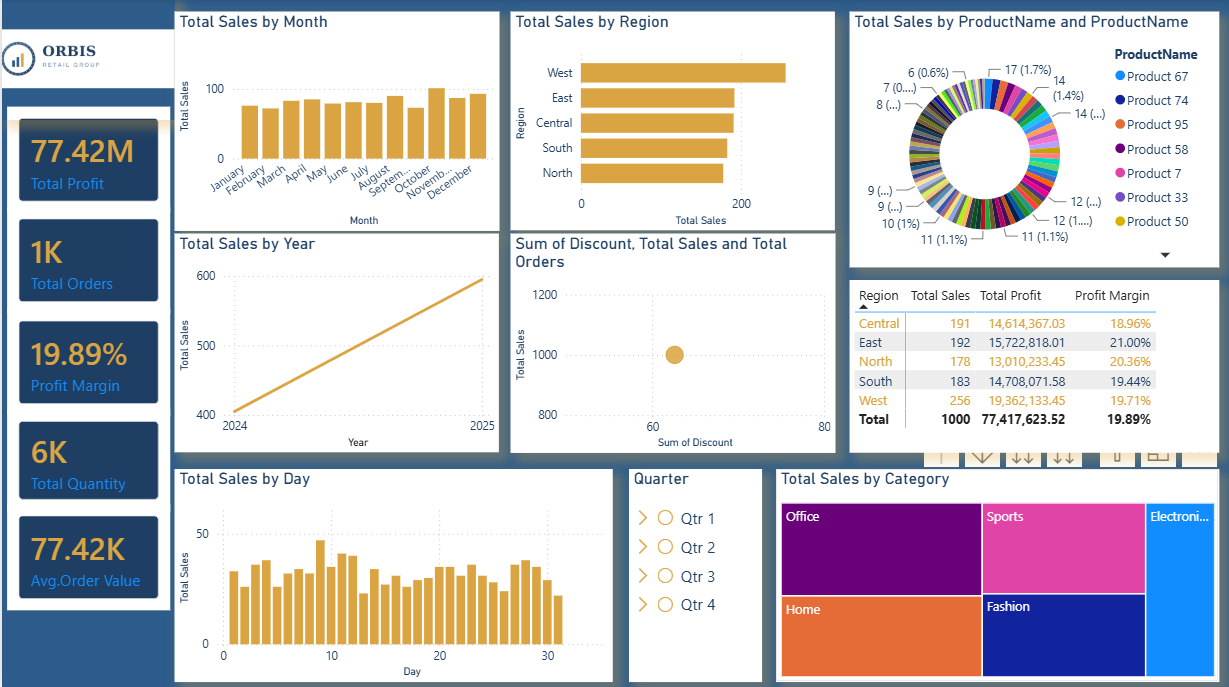

What the dashboard file says about the page in this screenshot:
{"tool":"powerbi","page":{"name":"Page 1","canvas":[1280,720],"ordinal":0},"visuals":[{"type":"cardVisual","fields":{"Data":["Sum(Sales.SalesAmount)"]},"box":[0,108.3,180,121.7],"z":0},{"type":"image","box":[0,0,180,126.7],"z":1000},{"type":"cardVisual","fields":{"Data":["Sales.Total Sales"]},"box":[0,213.3,180,121.7],"z":2000},{"type":"cardVisual","fields":{"Data":["Sales.Profit MArgin"]},"box":[0,318.3,180,121.7],"z":3000},{"type":"cardVisual","fields":{"Data":["Sum(Sales.Quantity)"]},"box":[0,423.3,180,116.7],"z":4000},{"type":"cardVisual","fields":{"Data":["Sales.Average Order Value"]},"box":[0,521.7,180,121.7],"z":5000},{"type":"clusteredColumnChart","fields":{"Category":["Sales.OrderDate.Variation.Date Hierarchy.Month"],"Y":["Sales.Total Sales"]},"box":[180,13.3,338.3,228.3],"z":6000},{"type":"donutChart","fields":{"Category":["Products.ProductName"],"Y":["Sales.Total Sales"],"Series":["Products.ProductName"]},"box":[883.3,13.3,385,266.7],"z":7000},{"type":"clusteredBarChart","fields":{"Category":["Region.Region"],"Y":["Sales.Total Sales"]},"box":[530,13.3,338,228],"z":8000},{"type":"lineChart","fields":{"Category":["Sales.OrderDate.Variation.Date Hierarchy.Year","Sales.OrderDate.Variation.Date Hierarchy.Quarter"],"Y":["Sales.Total Sales"]},"box":[180,245,338,228],"z":9000},{"type":"lineStackedColumnComboChart","fields":{"Category":["Sales.OrderDate.Variation.Date Hierarchy.Day"],"Y":["Sales.Total Sales"]},"box":[180,490,456.7,221.7],"z":10000},{"type":"treemap","fields":{"Group":["Products.Category","Products.Subcategory"],"Values":["Sales.Total Sales"]},"box":[806.7,490,461.7,221.7],"z":11000},{"type":"pivotTable","fields":{"Rows":["Region.Region"],"Values":["Sales.Total Sales","Sales.Total Profit","Sales.Profit Margin"]},"box":[883.3,293.3,385,180],"z":12000},{"type":"scatterChart","fields":{"X":["Sum(Sales.Discount)"],"Y":["Sales.Total Sales"],"Size":["Sales.Total Orders"]},"box":[530,245,338.3,228.3],"z":13000},{"type":"listSlicer","fields":{"Values":["Sales.OrderDate.Variation.Date Hierarchy.Quarter","Sales.OrderDate.Variation.Date Hierarchy.Month"]},"box":[653.3,490,138.3,221.7],"z":14000}]}

Visuals, with their boxes in screenshot pixels (x1, y1, x2, y2), scaled from the page's 1280x720 canvas onto the 1229x687 screenshot:
cardVisual - Sum(Sales.SalesAmount): bbox=[0, 103, 173, 219]
image: bbox=[0, 0, 173, 121]
cardVisual - Sales.Total Sales: bbox=[0, 204, 173, 320]
cardVisual - Sales.Profit MArgin: bbox=[0, 304, 173, 420]
cardVisual - Sum(Sales.Quantity): bbox=[0, 404, 173, 515]
cardVisual - Sales.Average Order Value: bbox=[0, 498, 173, 614]
clusteredColumnChart - Sales.OrderDate.Variation.Date Hierarchy.Month x Sales.Total Sales: bbox=[173, 13, 498, 231]
donutChart - Products.ProductName x Sales.Total Sales: bbox=[848, 13, 1218, 267]
clusteredBarChart - Region.Region x Sales.Total Sales: bbox=[509, 13, 833, 230]
lineChart - Sales.OrderDate.Variation.Date Hierarchy.Year x Sales.OrderDate.Variation.Date Hierarchy.Quarter: bbox=[173, 234, 497, 451]
lineStackedColumnComboChart - Sales.OrderDate.Variation.Date Hierarchy.Day x Sales.Total Sales: bbox=[173, 468, 611, 679]
treemap - Products.Category x Products.Subcategory: bbox=[775, 468, 1218, 679]
pivotTable - Region.Region x Sales.Total Sales: bbox=[848, 280, 1218, 452]
scatterChart - Sum(Sales.Discount) x Sales.Total Sales: bbox=[509, 234, 834, 452]
listSlicer - Sales.OrderDate.Variation.Date Hierarchy.Quarter x Sales.OrderDate.Variation.Date Hierarchy.Month: bbox=[627, 468, 760, 679]
